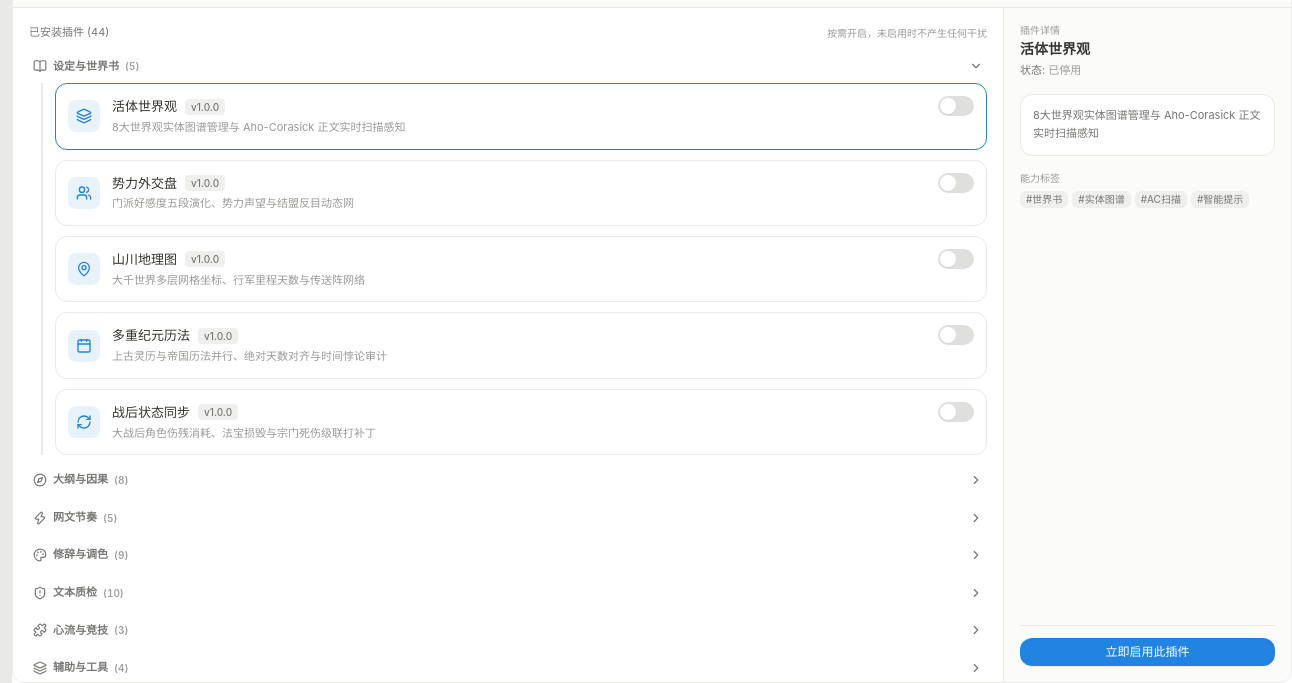
Test: PluginSettingsView UI Component › toggles plugin off/on and persists to IndexedDB
The image size is (1292, 683).
Note: 右侧详情抽屉默认选中 living-codex，点击「立即启用此插件」
Click the button "立即启用此插件".
click(1148, 652)  # box [1020, 638, 1275, 666]
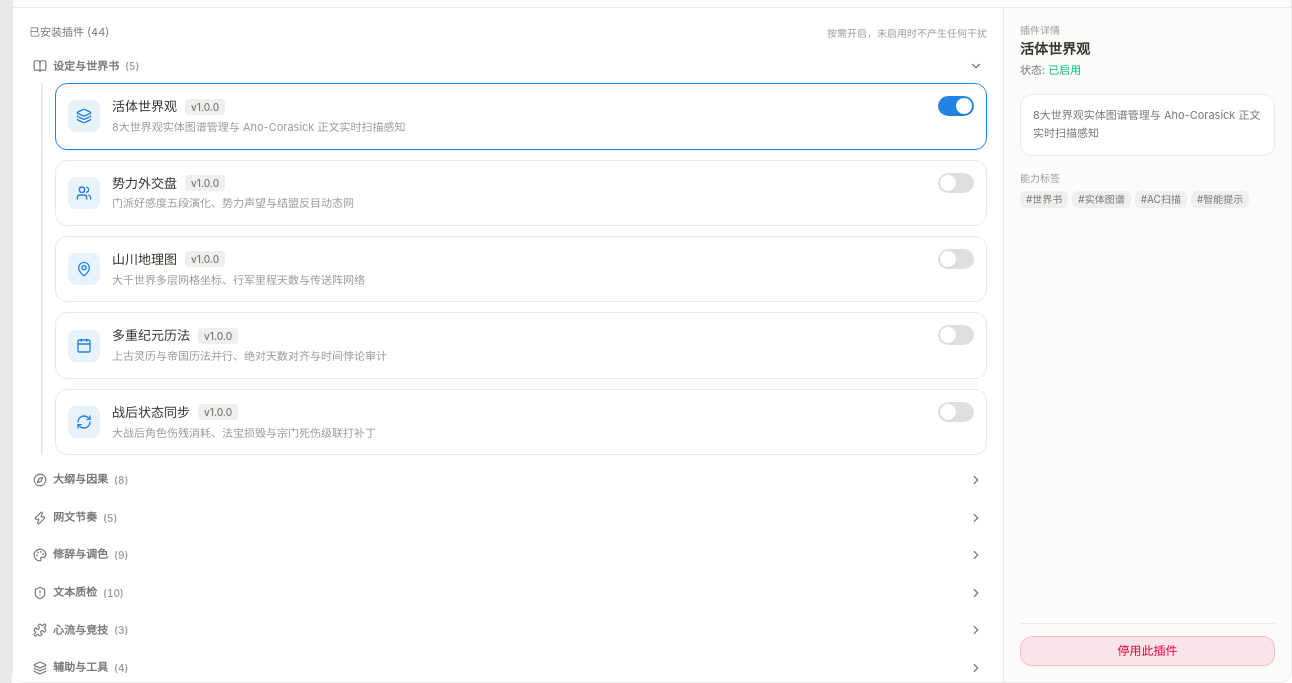
Note: 再次点击「停用此插件」
Click the button "停用此插件".
click(1148, 651)  # box [1020, 636, 1275, 666]
(page scrolled)
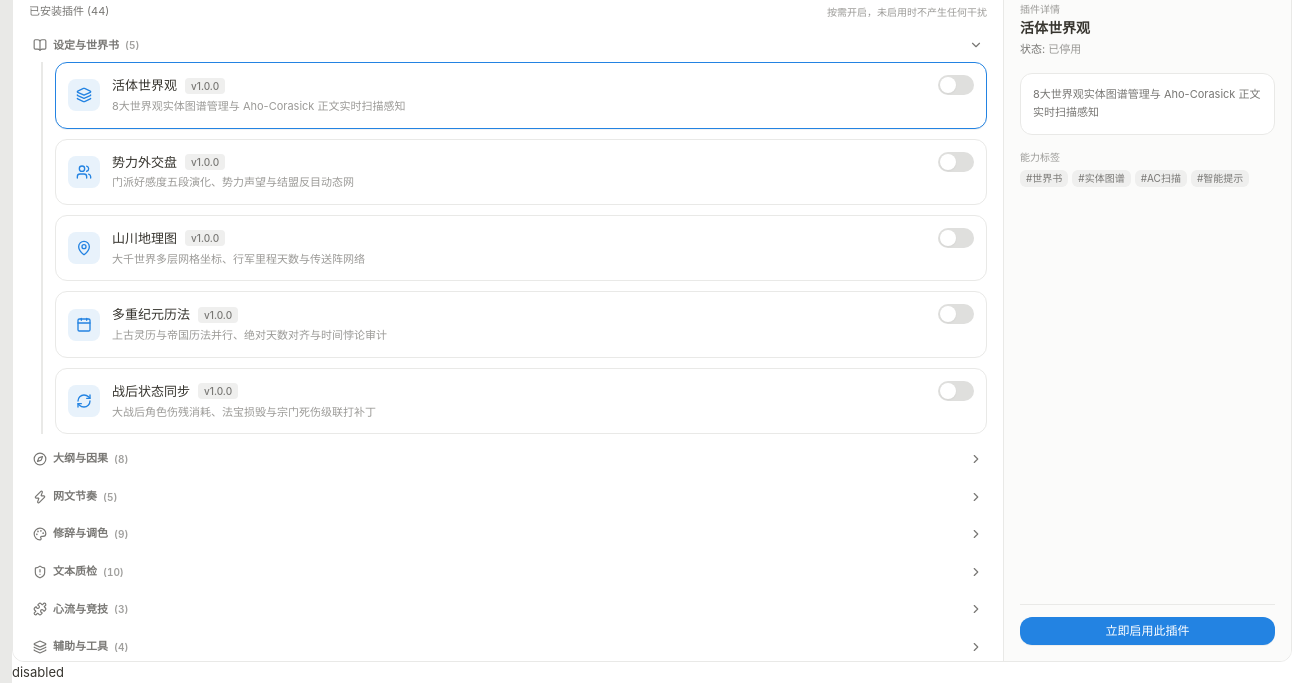
Check: the text with test id "consumer" reads "disabled", box [12, 664, 64, 680]
